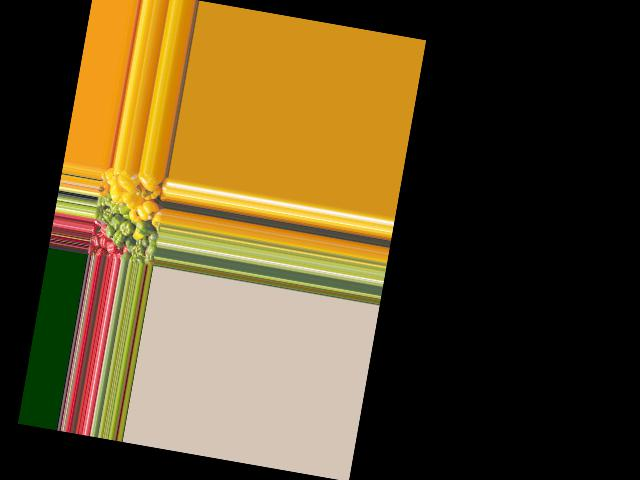bell_pepper: (143, 248, 157, 265)
